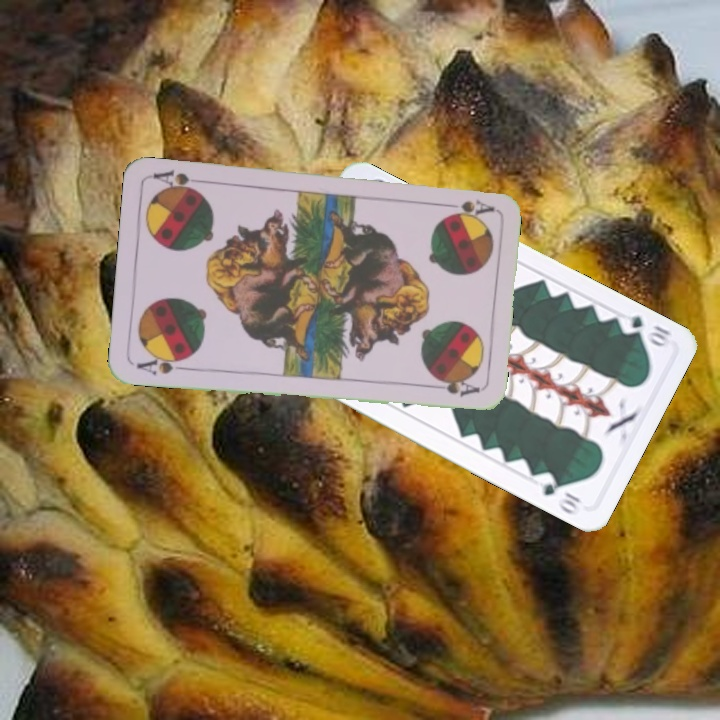G10: (614, 309, 675, 351)
SA: (132, 351, 191, 377), (437, 196, 496, 219)
